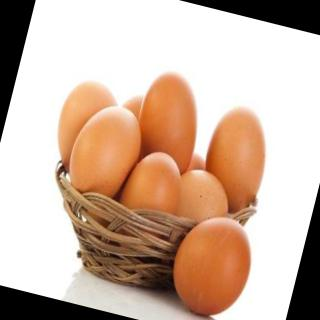Telur: (163, 207, 266, 320)
